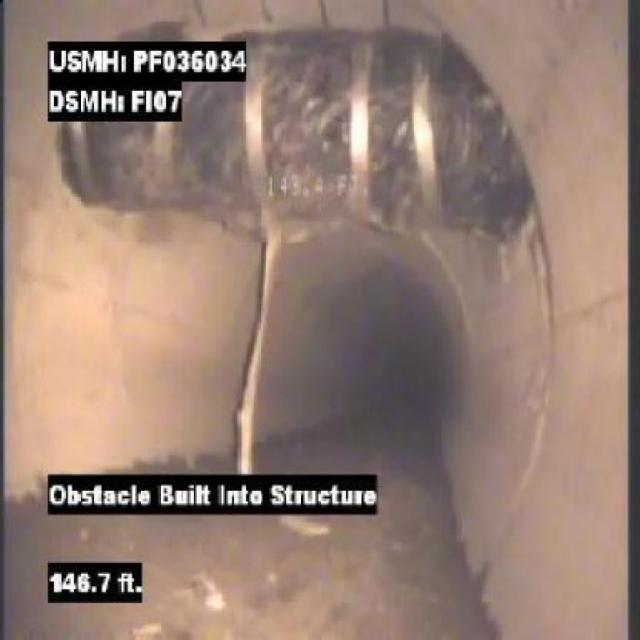Utility intrusion: (61, 22, 542, 242)
